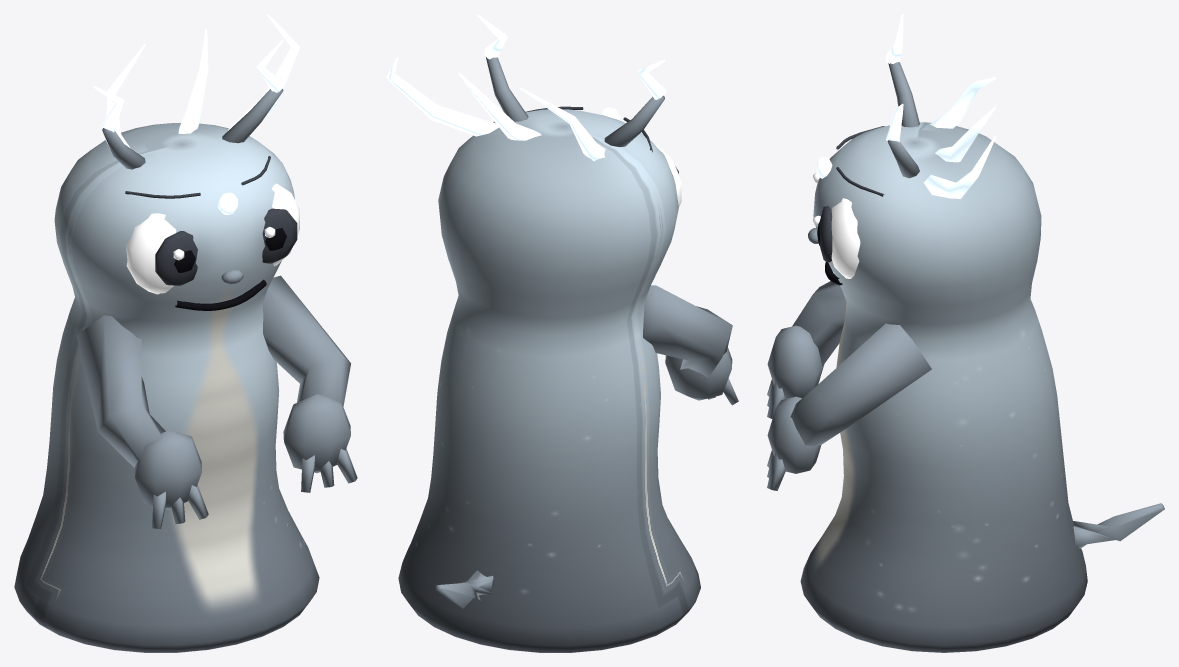
File: elemental-aire_pixar.glb
3 views of the same model, side by side, from view 1: azimuth 30°, elevation 25°; view 2: azimuth 150°, elevation 25°; view 3: azimuth 270°, elevation 25° (orthographic). The views are drawn at different scales.
Parts seen in each view (by area): view 1: elemental-aire_cuerpo; view 2: elemental-aire_cuerpo; view 3: elemental-aire_cuerpo.
Boxes of the visible parts, x1,y1,x2,y2 form: elemental-aire_cuerpo: (14,14,357,652); elemental-aire_cuerpo: (386,14,738,652); elemental-aire_cuerpo: (767,14,1164,652).
Size of the model in its own units: 0.3135 by 0.58 by 0.3922.
5 materials, 1 textured.
